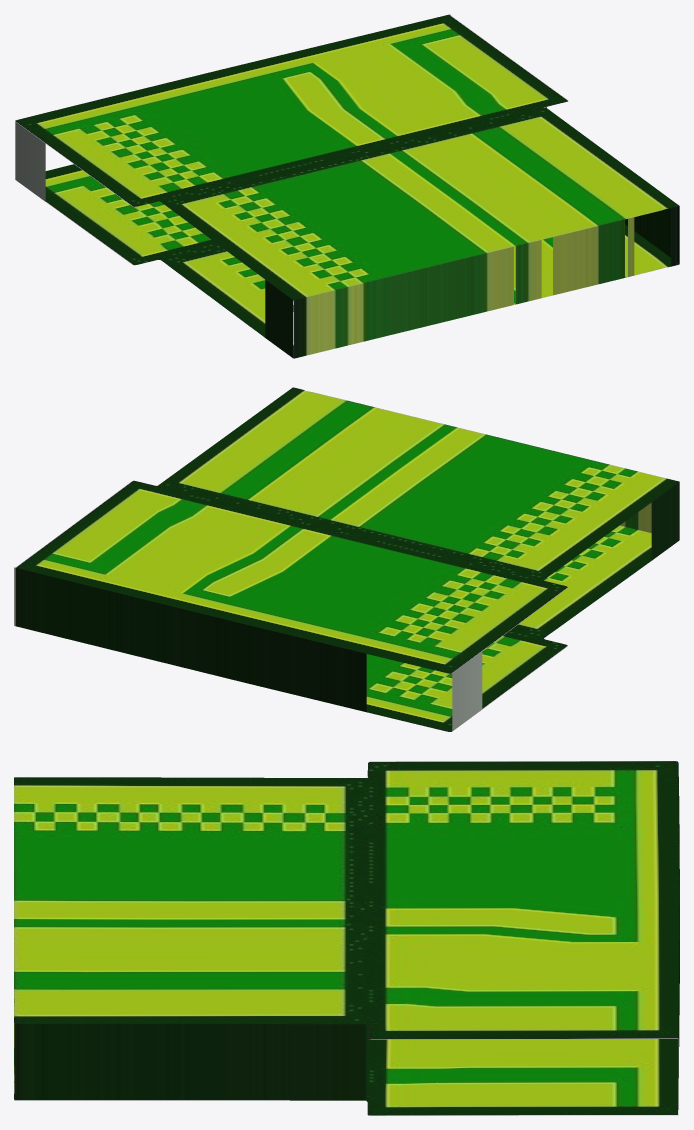
File: Pipe.fbx
The picture shows the model from 3 angles, top to bottom: view 1: azimuth 30°, elevation 25°; view 2: azimuth 150°, elevation 25°; view 3: azimuth 270°, elevation 25°; orthographic projection. The views are drawn at different scales.
Parts seen in each view (by area): view 1: Cube; view 2: Cube; view 3: Cube.
Boxes of the visible parts, box(x1,y1,x2,y2) form: Cube: box(15, 14, 679, 358); Cube: box(14, 387, 679, 731); Cube: box(14, 761, 679, 1115).
Bounding box in the file's own units: 88.97 × 11.37 × 89.88.
Materials: 1 (1 with a texture image).
